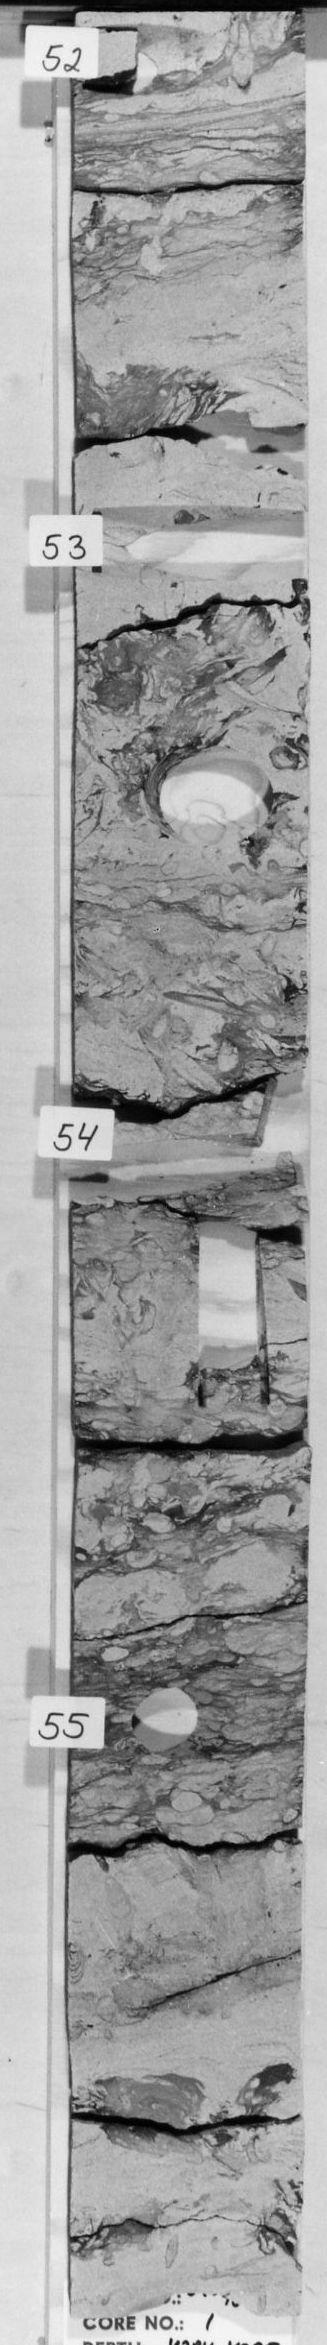hplug: (90, 500, 305, 594), (84, 19, 219, 100), (125, 1679, 206, 1757)
scal: (131, 736, 285, 855)
vplug: (181, 1208, 281, 1409)
